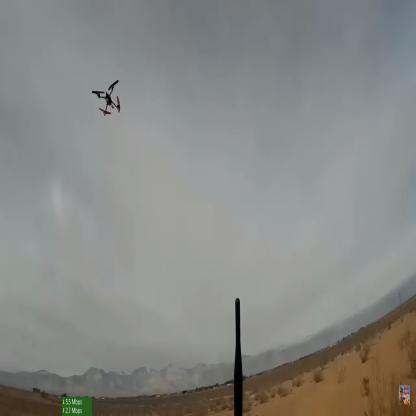drone: (89, 77, 126, 116)
